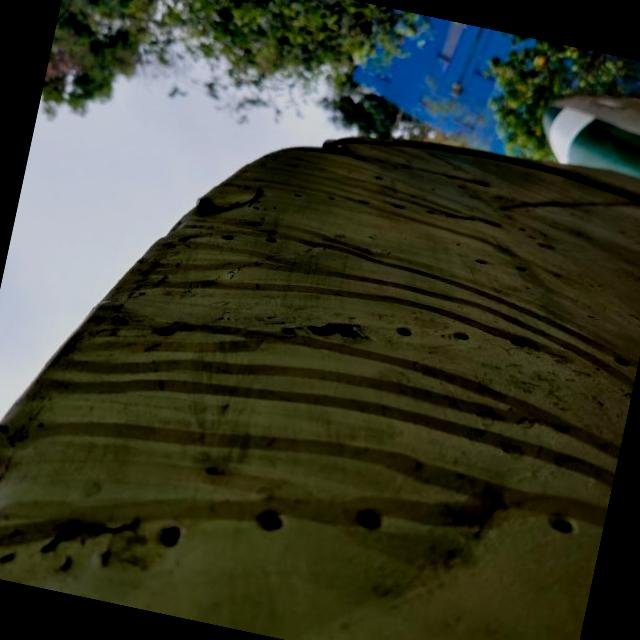crack: (267, 289, 387, 370)
